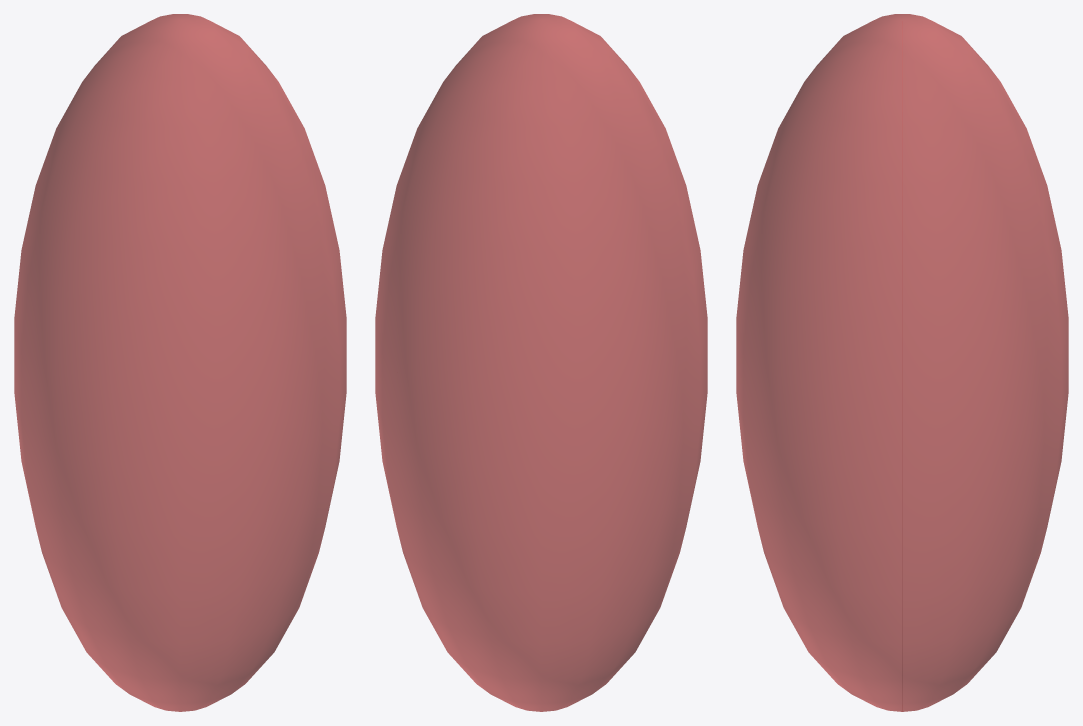
The model's file is cover.fbx.
The picture shows the model from 3 angles, left to right: view 1: azimuth 30°, elevation 25°; view 2: azimuth 150°, elevation 25°; view 3: azimuth 270°, elevation 25°; orthographic projection.
Parts seen in each view (by area): view 1: pSphere1; view 2: pSphere1; view 3: pSphere1.
Boxes of the visible parts, left/top/right/bottom form: pSphere1: left=14, top=14, right=346, bottom=711; pSphere1: left=375, top=14, right=707, bottom=711; pSphere1: left=736, top=14, right=1068, bottom=711.
Bounding box in the file's own units: 13.67 × 31.17 × 13.74.
